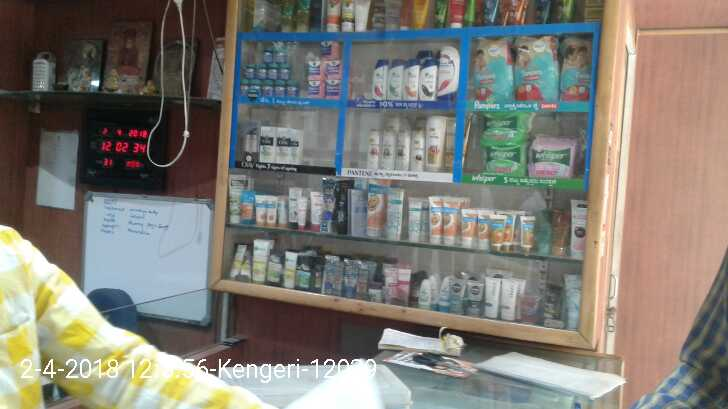vicks: (240, 44, 299, 97), (305, 39, 343, 98)
